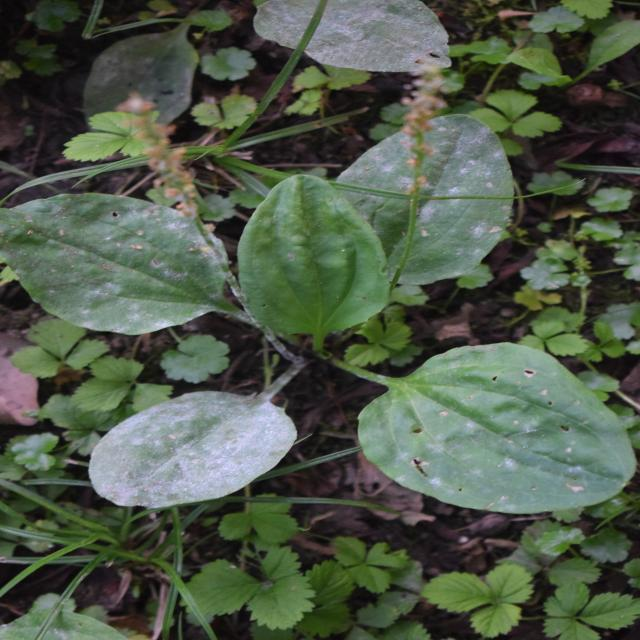plantain: (122, 30, 508, 606)
